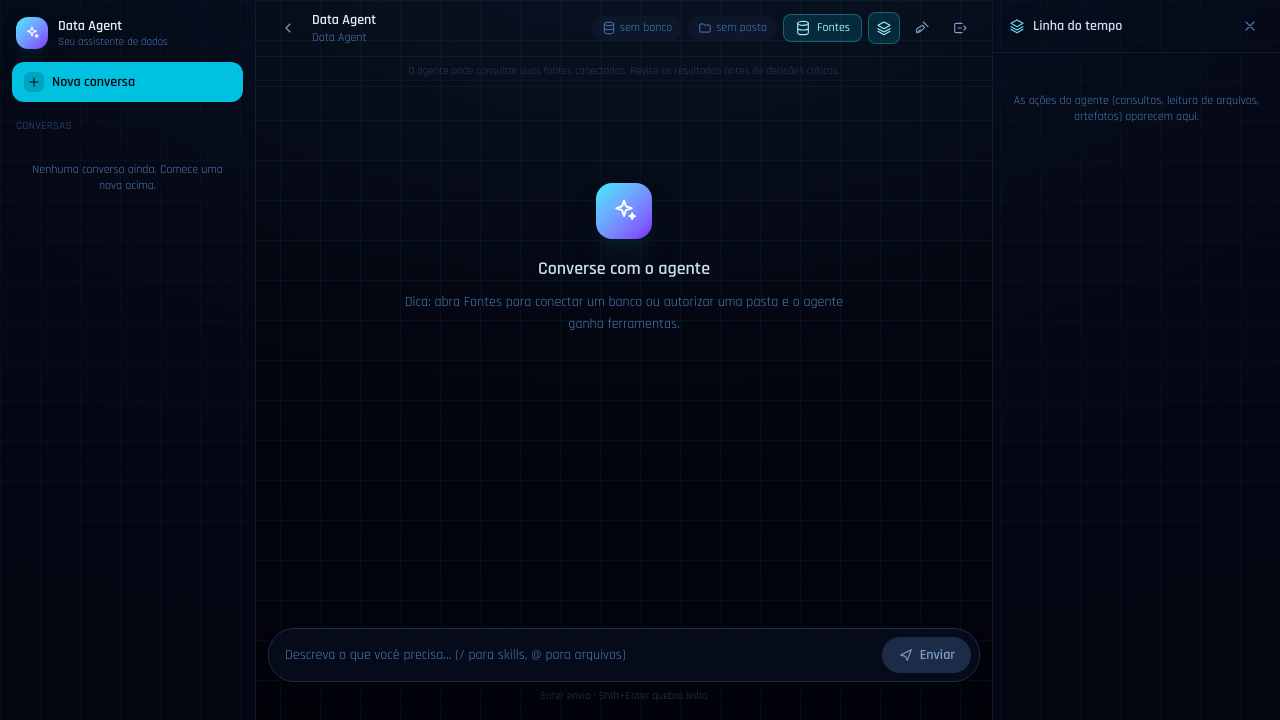
Test: turn endings › explains a timeout as a time limit, not a step limit
This screenshot has width=1280, height=720.
Type "analise a pasta" into the text box at [579, 654], box [285,638,874,670]
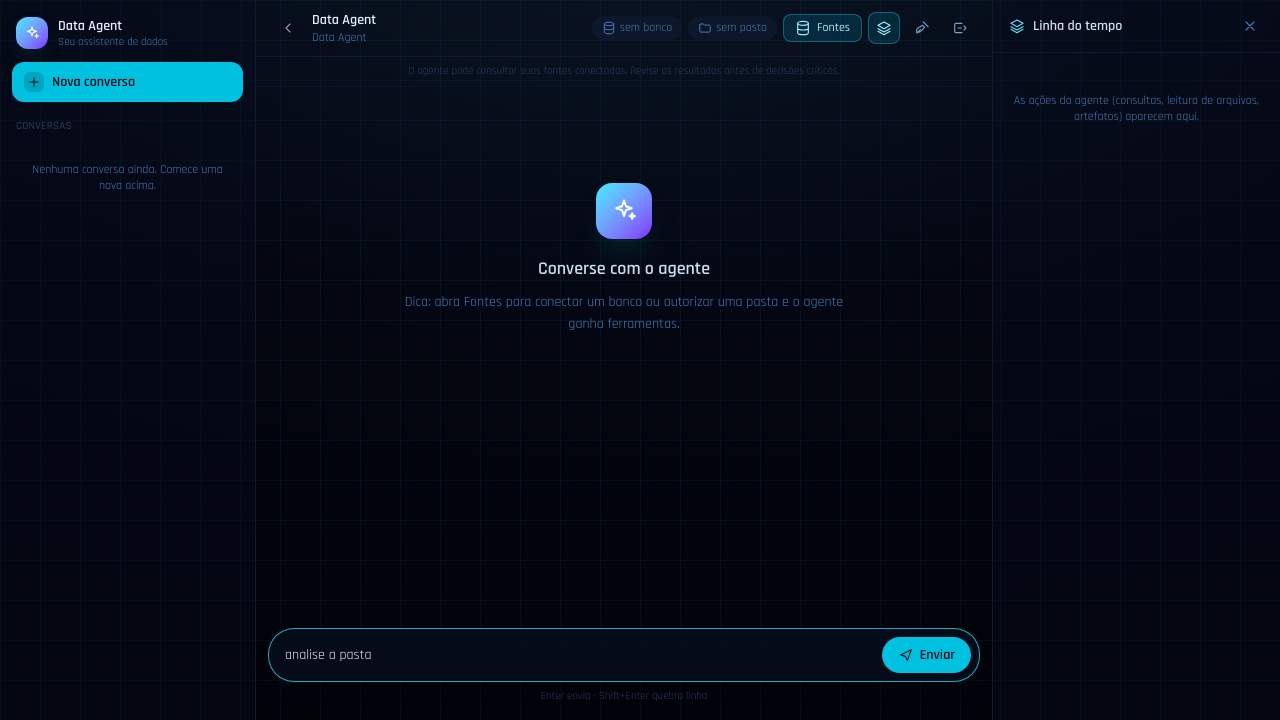
Press Enter
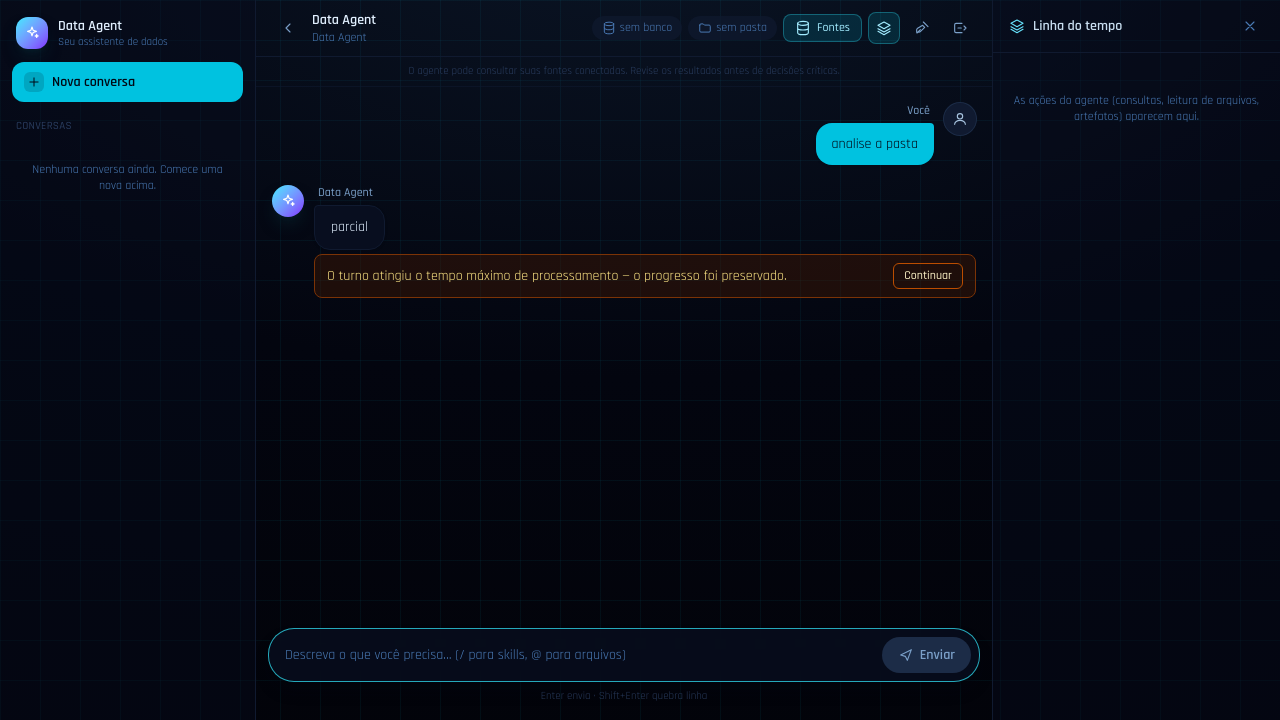
expect the text "tempo máximo" is shown: met, box [327,267,787,285]
expect the button "Continuar" is shown: met, box [893,263,963,289]
